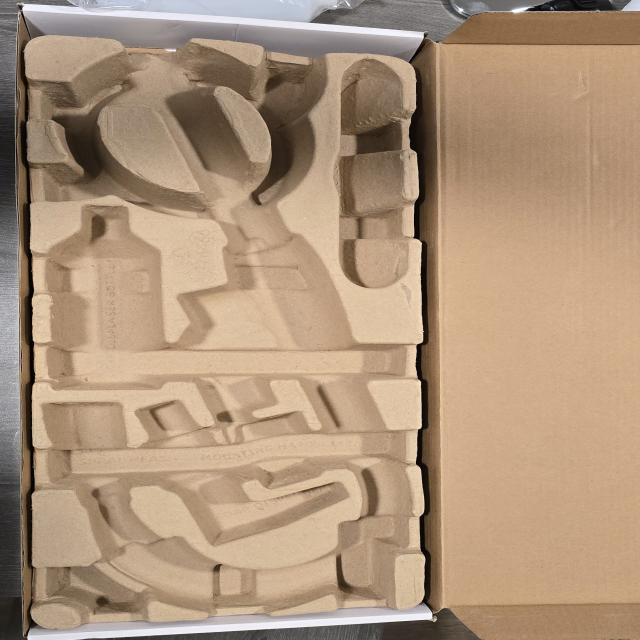1m: (42, 45, 408, 607)
2m: (139, 402, 352, 543)
3m: (42, 206, 160, 387)
4m: (334, 60, 405, 290)
5m: (261, 65, 320, 108)
6m: (65, 155, 135, 198)
7m: (72, 67, 124, 119)
